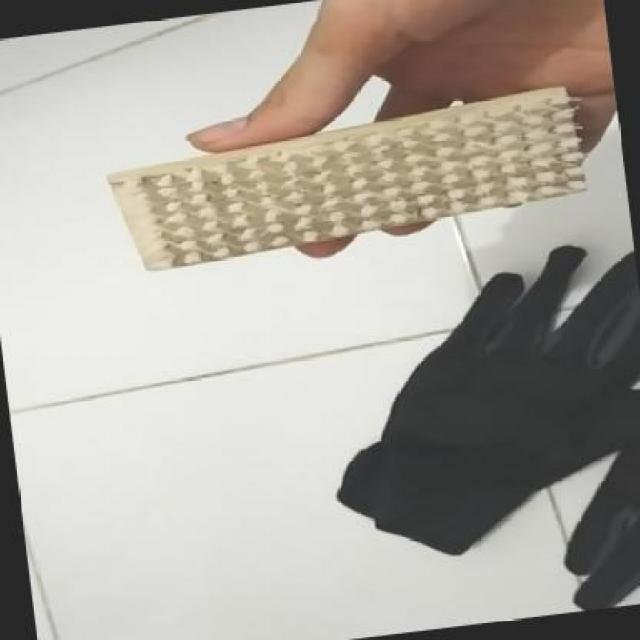gloved_hand: (298, 250, 638, 572)
